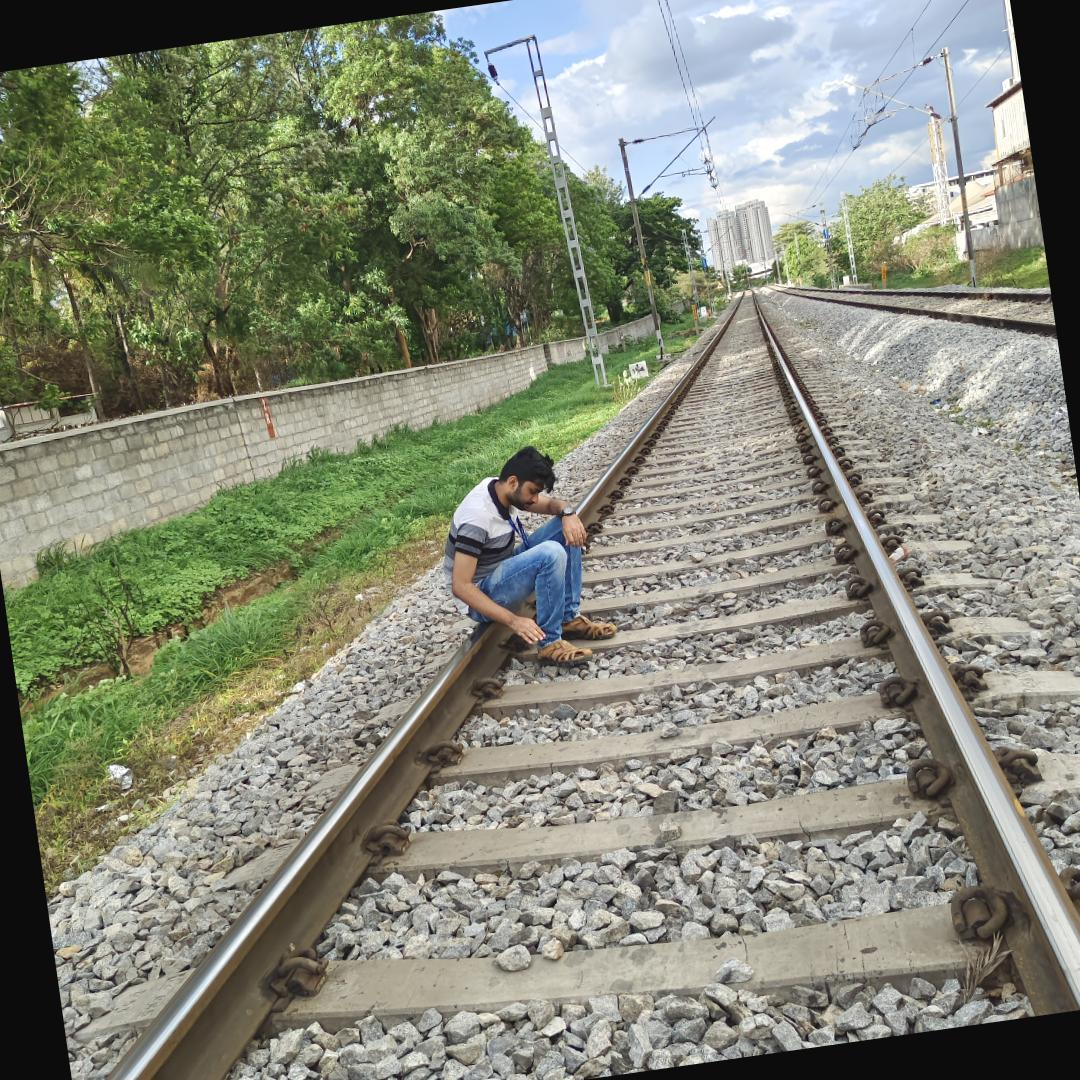sitting: (414, 429, 630, 694)
